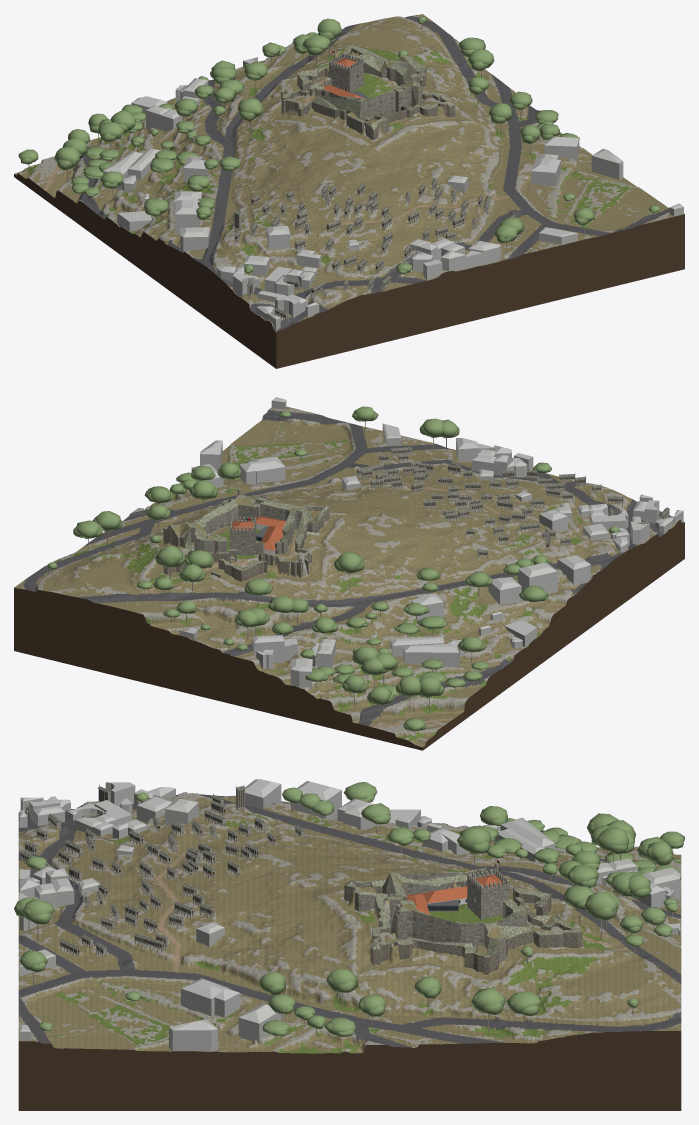
File: lindoso.glb
The picture shows the model from 3 angles, top to bottom: view 1: azimuth 30°, elevation 25°; view 2: azimuth 150°, elevation 25°; view 3: azimuth 270°, elevation 25°; orthographic projection. The views are drawn at different scales.
Visible parts, largest first — view 1: Terreno, base, envolvente, arvores, espigueiros, cerca_medieval, muralha_abaluartada, torre_menagem; view 2: Terreno, base, arvores, envolvente, espigueiros, cerca_medieval, muralha_abaluartada, torre_menagem, museu; view 3: Terreno, base, arvores, envolvente, espigueiros, muralha_abaluartada, cerca_medieval, torre_menagem, museu.
Boxes of the visible parts, x1,y1,x2,y2 form: Terreno: (14, 14, 684, 331); base: (14, 85, 684, 368); envolvente: (103, 57, 683, 330); arvores: (18, 16, 659, 278); espigueiros: (234, 177, 524, 322); cerca_medieval: (315, 54, 422, 138); muralha_abaluartada: (281, 45, 455, 140); torre_menagem: (329, 53, 363, 92); Terreno: (14, 406, 684, 747); base: (14, 432, 684, 750); arvores: (47, 406, 620, 739); envolvente: (179, 397, 683, 688); espigueiros: (357, 446, 669, 558); cerca_medieval: (170, 494, 329, 555); muralha_abaluartada: (163, 499, 319, 581); torre_menagem: (229, 516, 256, 555); museu: (253, 516, 285, 555); Terreno: (18, 792, 681, 1053); base: (18, 796, 681, 1110); arvores: (14, 782, 684, 1044); envolvente: (19, 779, 680, 1051); espigueiros: (20, 785, 305, 957); muralha_abaluartada: (344, 867, 582, 974); cerca_medieval: (344, 872, 527, 962); torre_menagem: (467, 868, 509, 919); museu: (406, 886, 467, 914).
Size of the model in its own units: 199 by 55.19 by 223.
29 materials, 13 textured.
